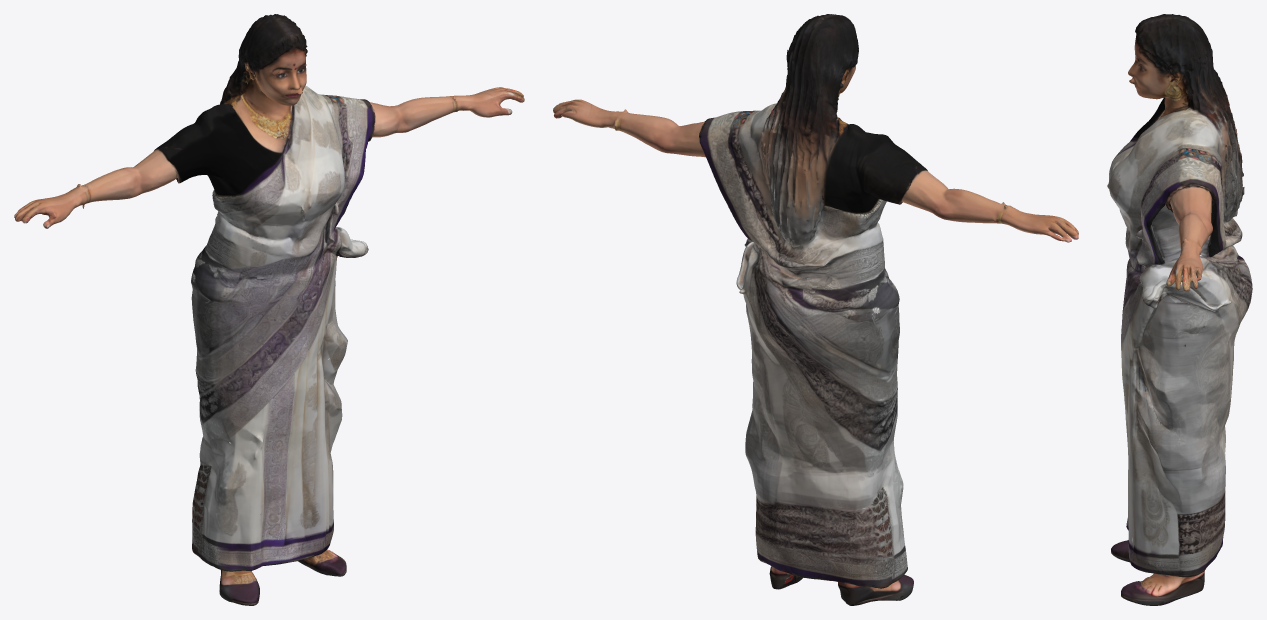
Rendered from sareelady.glb.
3 views of the same model, side by side, from view 1: azimuth 30°, elevation 25°; view 2: azimuth 150°, elevation 25°; view 3: azimuth 270°, elevation 25° (orthographic). The views are drawn at different scales.
Visible parts, largest first — view 1: input; view 2: input; view 3: input.
Boxes of the visible parts, x1,y1,x2,y2 form: input: (14, 14, 524, 605); input: (553, 14, 1078, 605); input: (1107, 14, 1252, 605).
Bounding box in the file's own units: 1.91 × 2 × 0.4655.
1 material, 1 textured.
